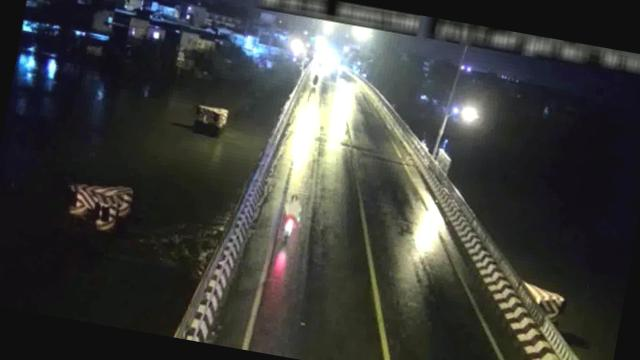Bike: (275, 189, 308, 242)
